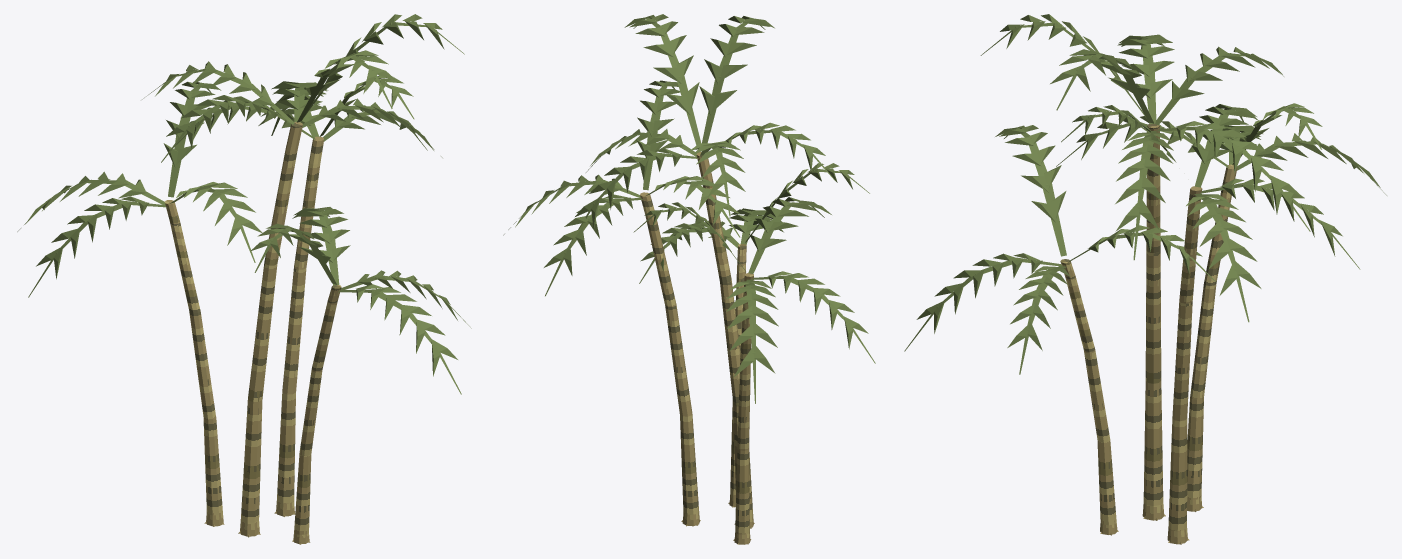
Rendered from areca.glb.
The picture shows the model from 3 angles, left to right: view 1: azimuth 30°, elevation 25°; view 2: azimuth 150°, elevation 25°; view 3: azimuth 270°, elevation 25°; orthographic projection. The views are drawn at different scales.
Parts seen in each view (by area): view 1: crown_areca, trunk_areca; view 2: crown_areca, trunk_areca; view 3: crown_areca, trunk_areca.
Boxes of the visible parts, x1,y1,x2,y2 form: crown_areca: (17,14,471,394); trunk_areca: (164,122,341,544); crown_areca: (503,14,875,403); trunk_areca: (640,152,754,544); crown_areca: (904,14,1386,374); trunk_areca: (1060,123,1237,544).
Size of the model in its own units: 5.25 by 6.21 by 5.18.
Materials: 2 (2 with a texture image).
